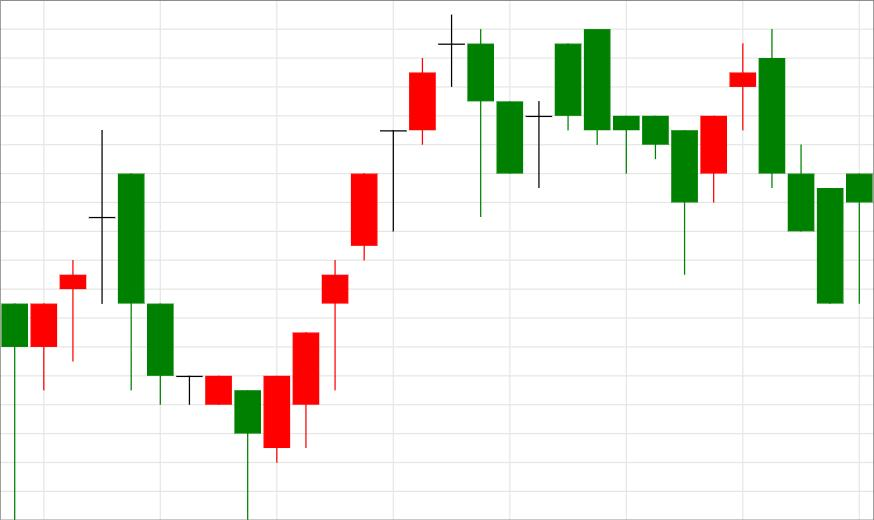evening_star_fall: (263, 15, 495, 462)
hammer_rise: (88, 129, 261, 519)
